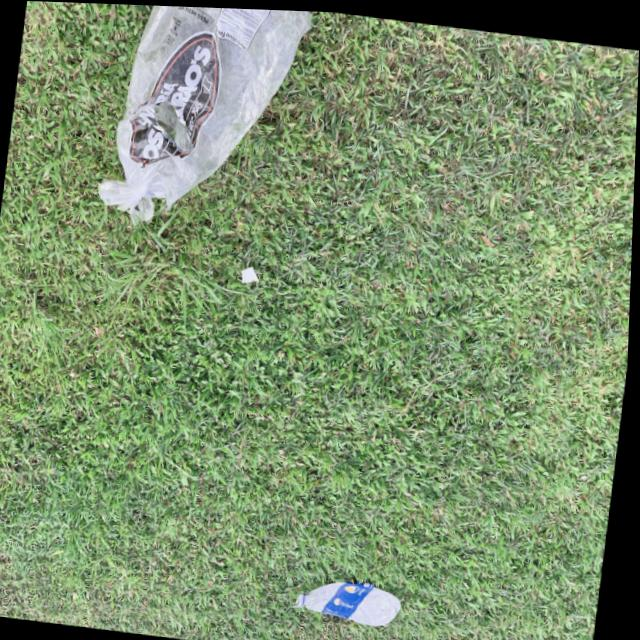Plastic: (88, 3, 317, 243), (283, 562, 414, 633)
